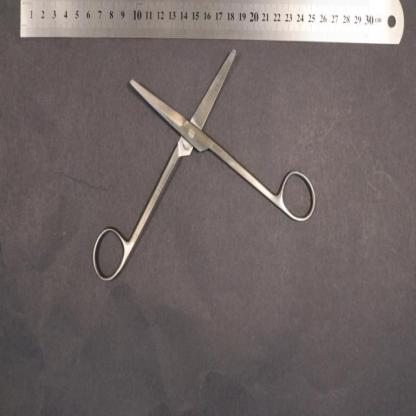Curved Mayo Scissors: (92, 50, 316, 285)
